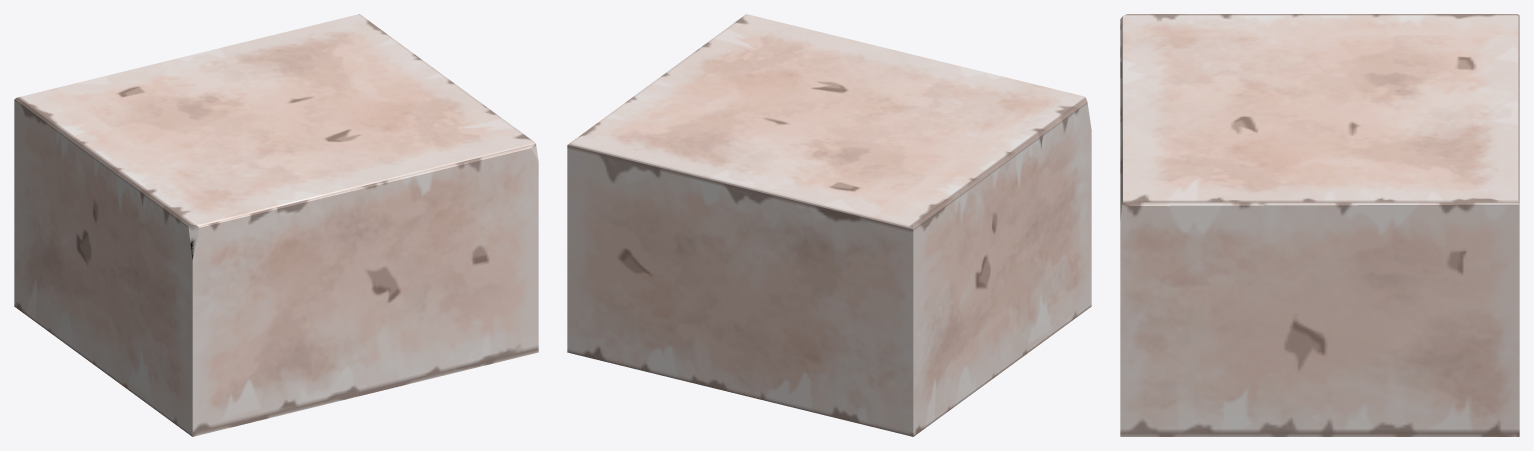
File: Z1_Big_Flat_Stone_3.FBX
3 renders of one model, left to right at view 1: azimuth 30°, elevation 25°; view 2: azimuth 150°, elevation 25°; view 3: azimuth 270°, elevation 25°, orthographic. The views are drawn at different scales.
Parts seen in each view (by area): view 1: Z1_Big_Flat_Stone_3; view 2: Z1_Big_Flat_Stone_3; view 3: Z1_Big_Flat_Stone_3.
Boxes of the visible parts, <box> form: Z1_Big_Flat_Stone_3: <box>14,14,538,436</box>; Z1_Big_Flat_Stone_3: <box>567,14,1091,436</box>; Z1_Big_Flat_Stone_3: <box>1120,14,1519,436</box>.
Size of the model in its own units: 329 by 191 by 294.
